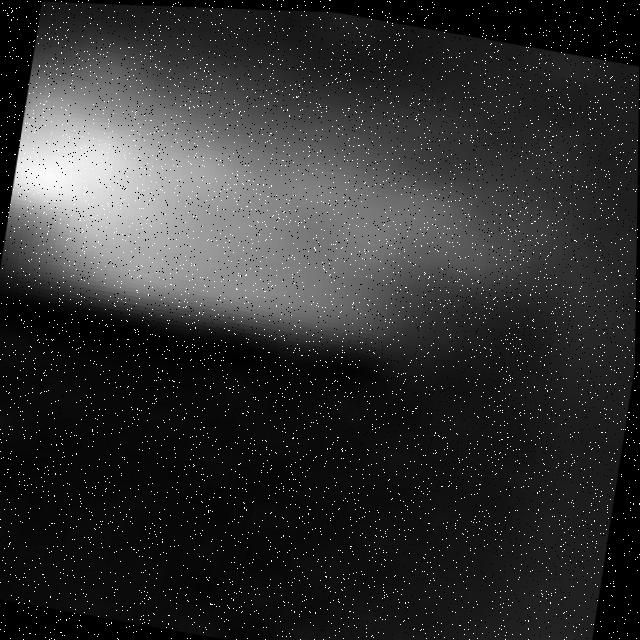person: (1, 42, 554, 394)
